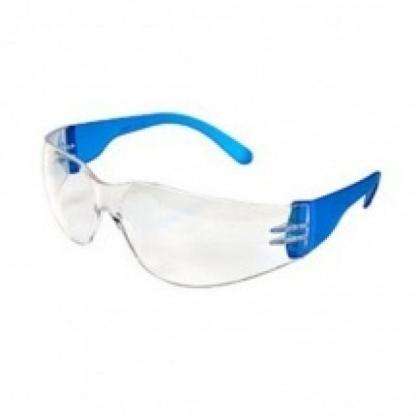oculos: (23, 104, 393, 300)
